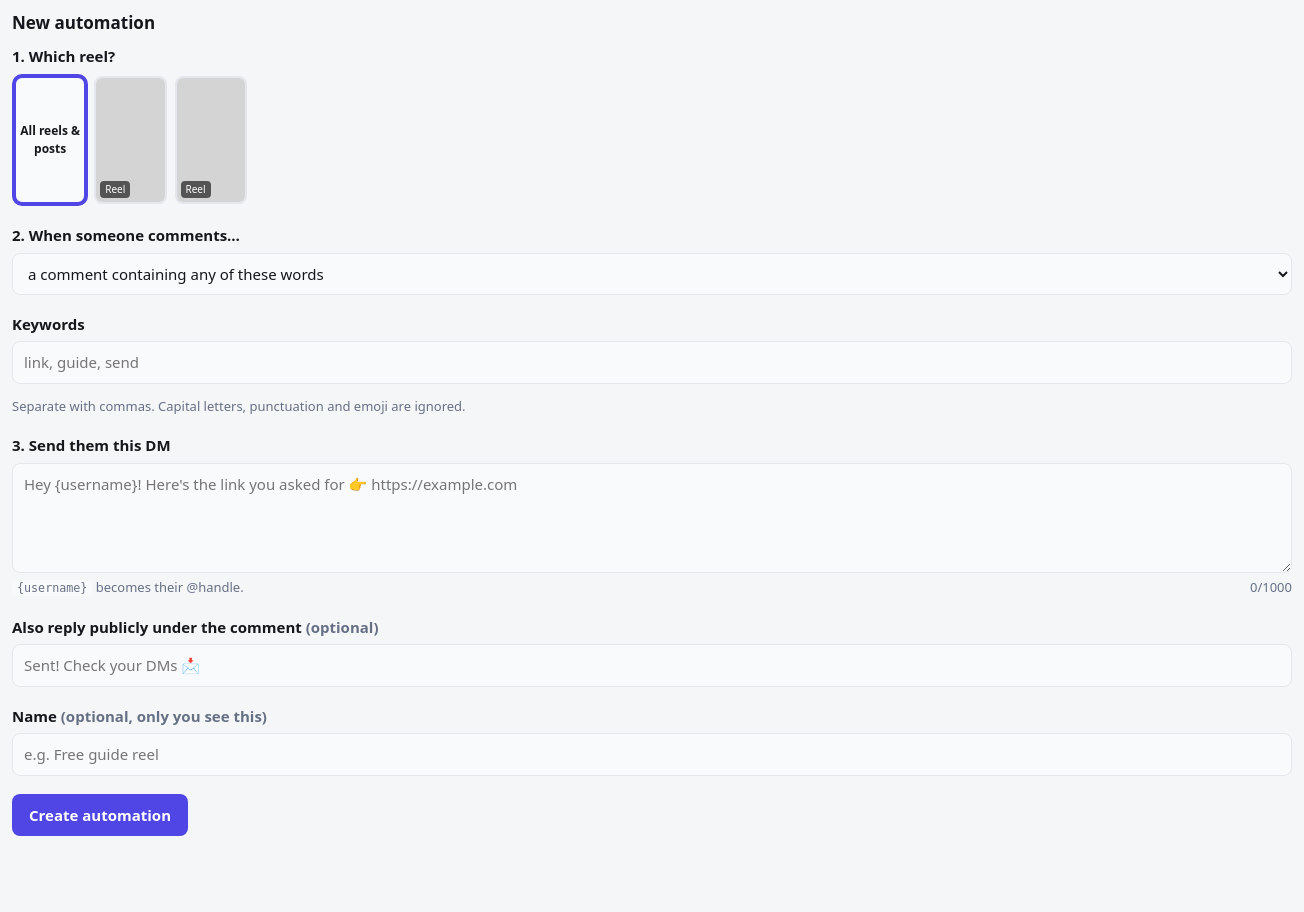
it: "anything" hides keywords and needs none
This screenshot has width=1304, height=912.
Later steps or results of the test are not shown.
Select "anything at all" in the dropdown labelled "2. When someone comments…": {"x": 652, "y": 274} [12,253,1292,295]
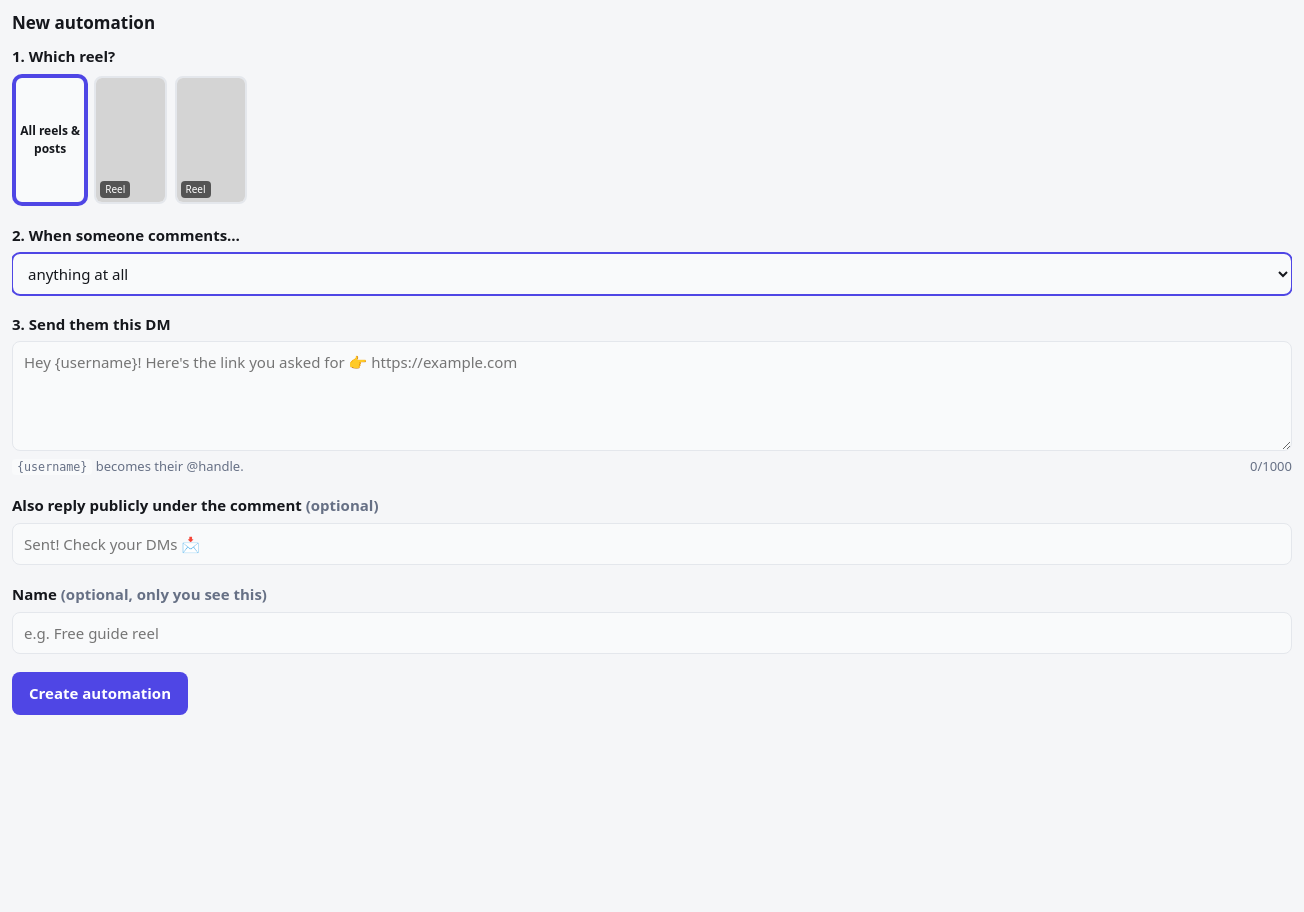
Expected: the label labelled "Keywords" is gone
